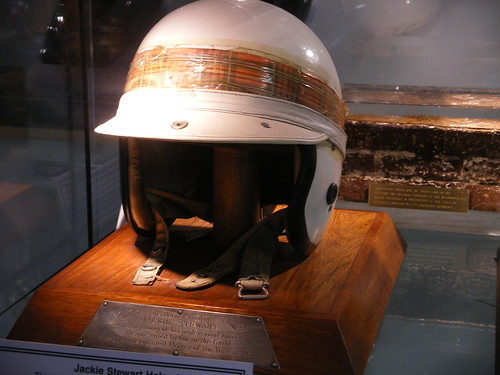helmet: (85, 8, 363, 140)
